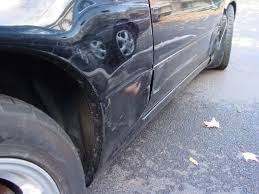Dent: (136, 68, 148, 106)
Scratch: (78, 64, 114, 150)
